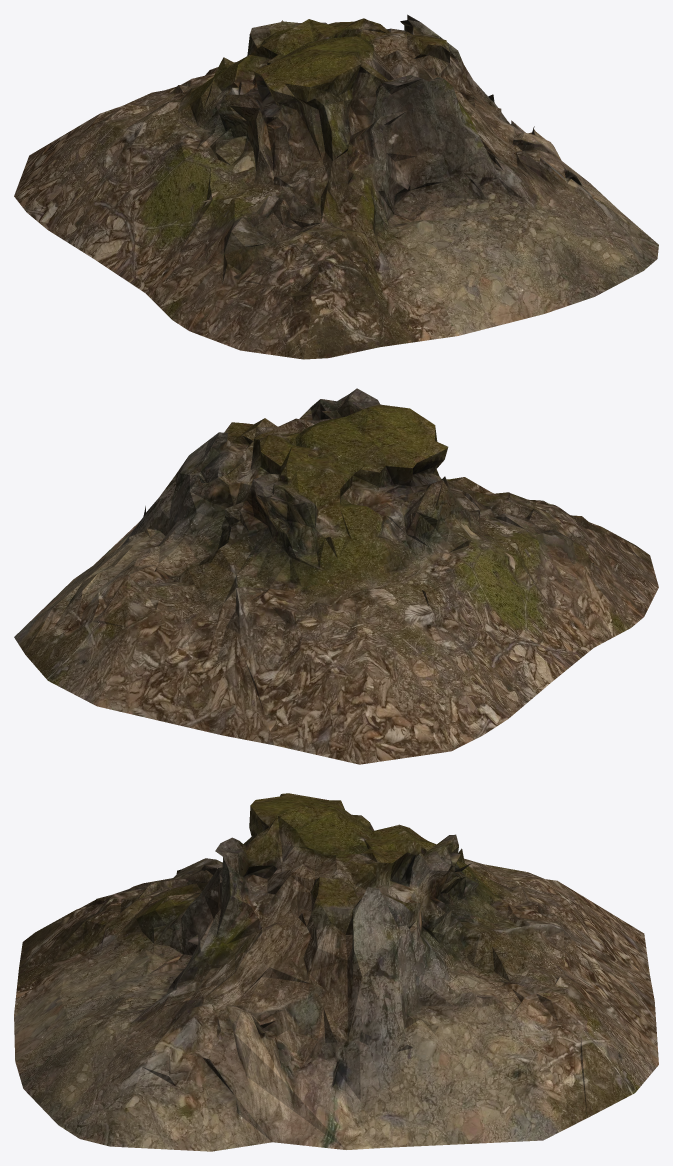
The model's file is tree_stump_01.glb.
3 renders of one model, top to bottom at view 1: azimuth 30°, elevation 25°; view 2: azimuth 150°, elevation 25°; view 3: azimuth 270°, elevation 25°, orthographic. The views are drawn at different scales.
Visible parts, largest first — view 1: tree_stump_01; view 2: tree_stump_01; view 3: tree_stump_01.
Boxes of the visible parts, x1,y1,x2,y2 form: tree_stump_01: (14,14,658,359); tree_stump_01: (14,388,658,764); tree_stump_01: (14,793,658,1151).
Bounding box in the file's own units: 1.43 × 0.57 × 1.59.
Materials: 1 (1 with a texture image).
